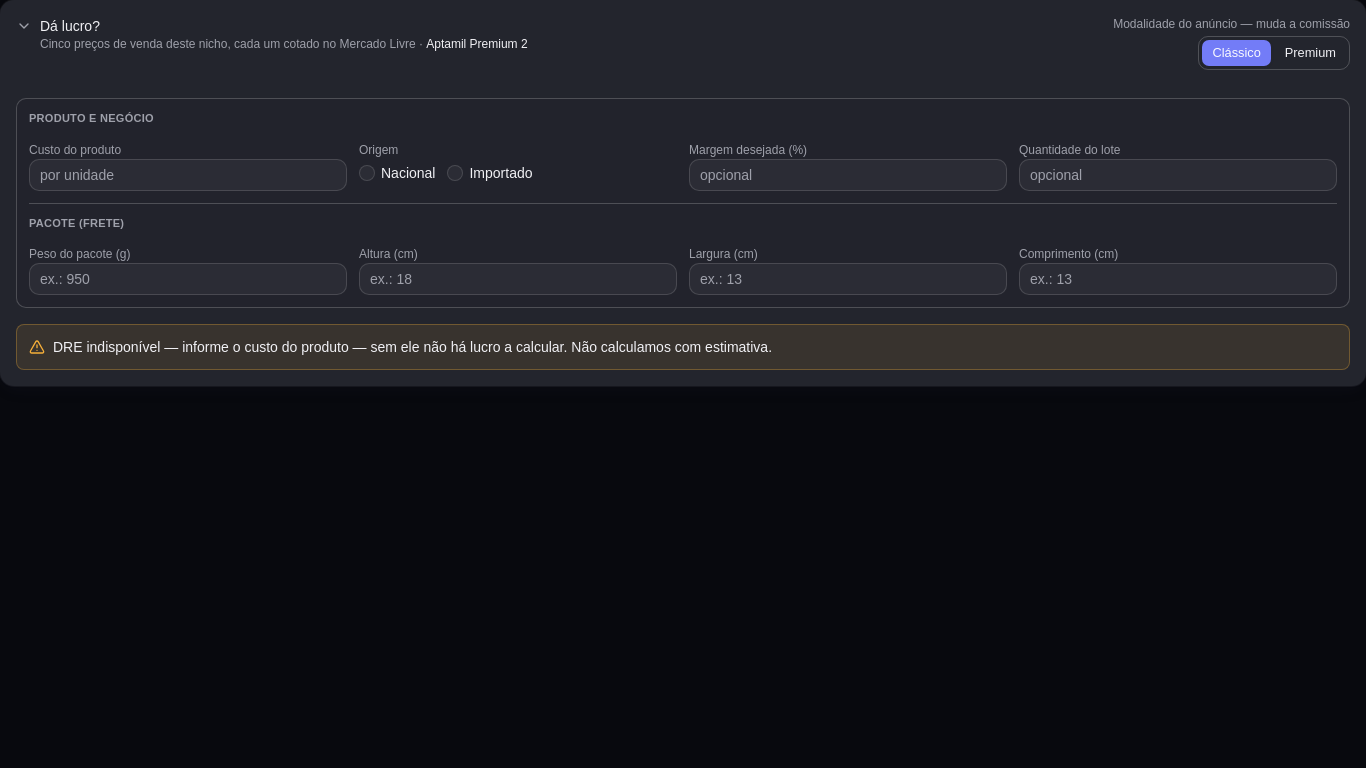
Test: SonarDre — cenários (ADR-0149) › mostra os cinco preços, do mais barato ao mais caro
In the field labelled "Custo do produto": [188, 175] box [29,159,347,191], type "42"
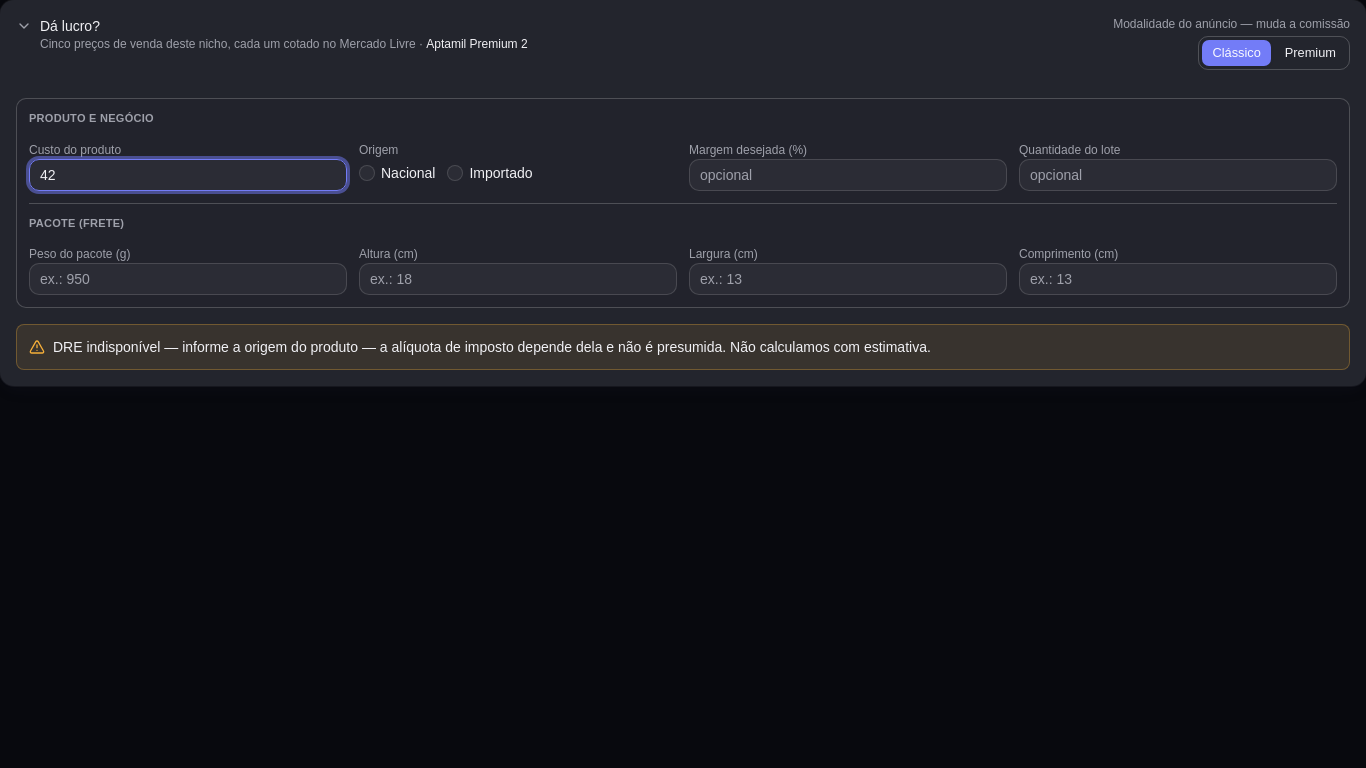
Click the radio button named "nacional" next to "Nacional": [367, 173] box [359,165,375,181]
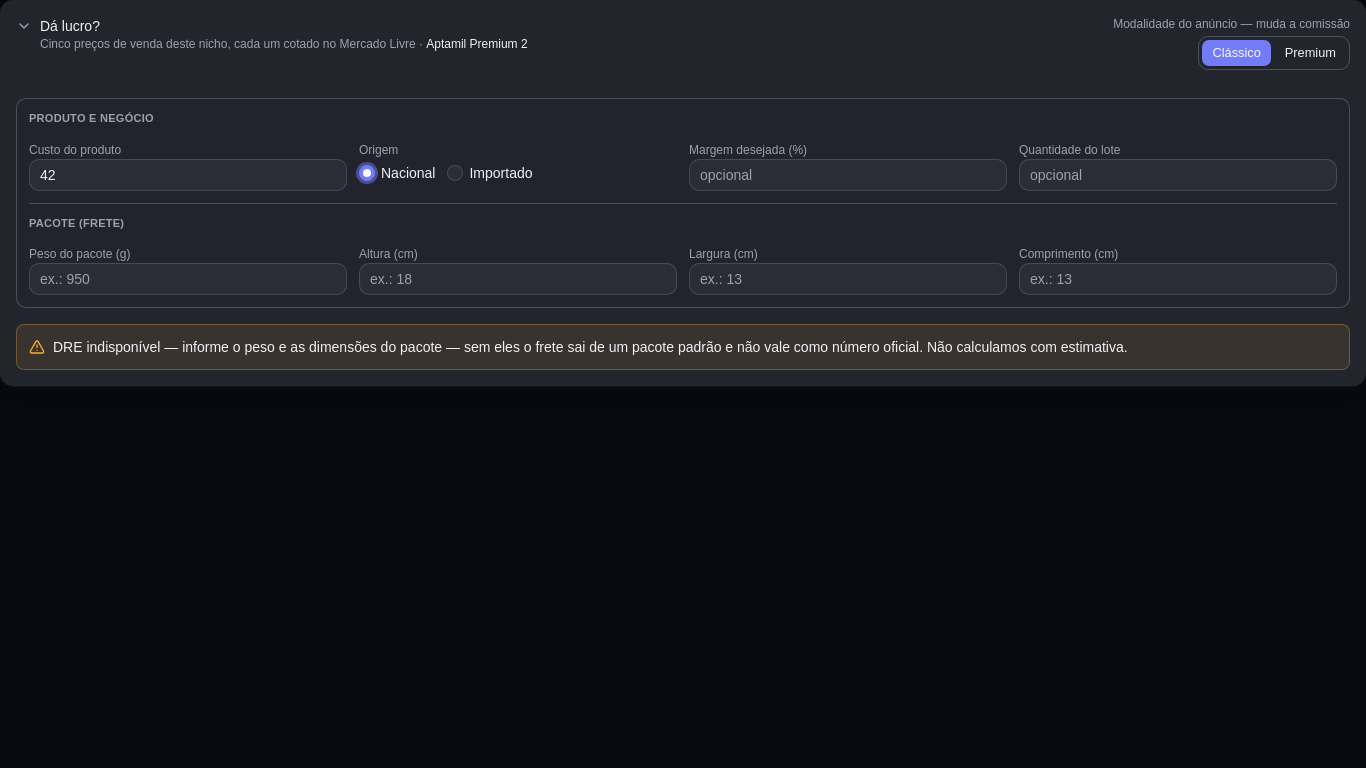
In the field labelled "Peso do pacote (g)": [188, 279] box [29,263,347,295], type "950"
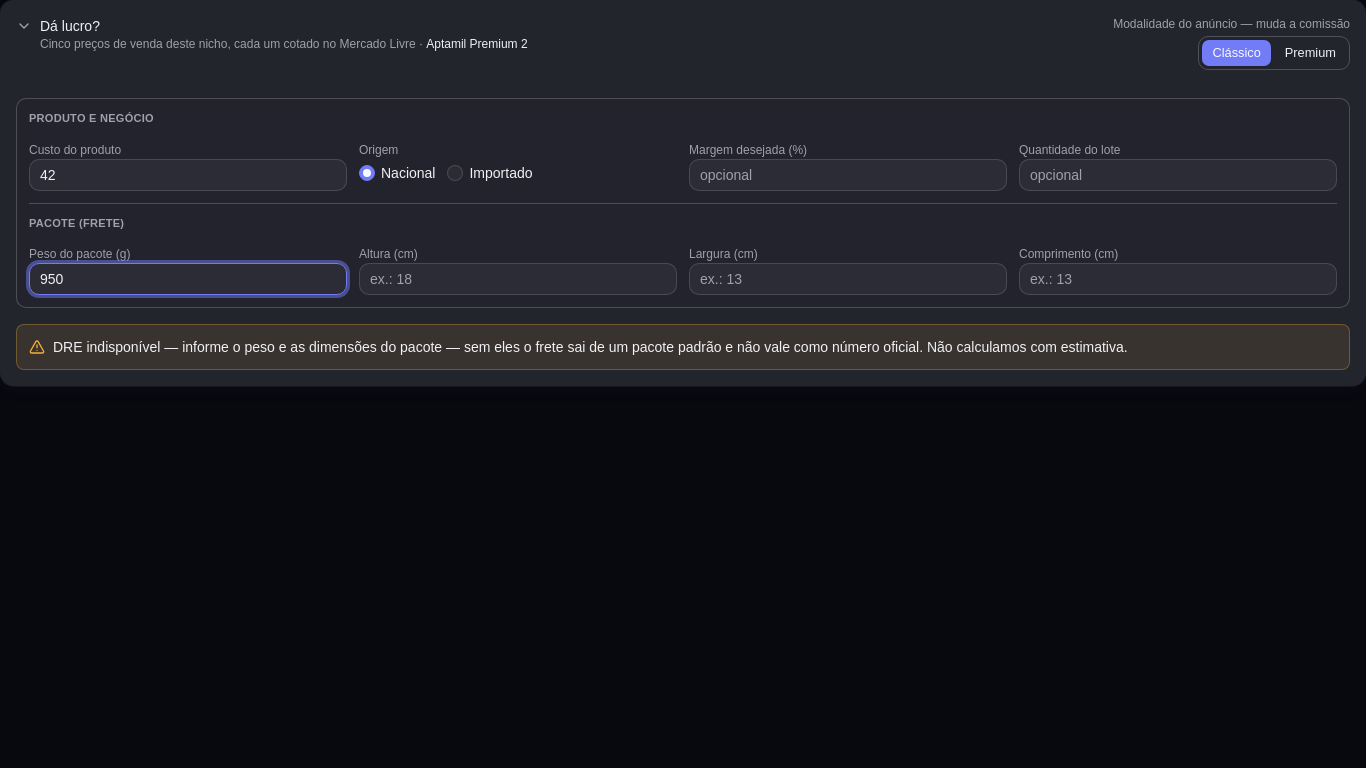
In the field labelled "Altura (cm)": [518, 279] box [359,263,677,295], type "18"
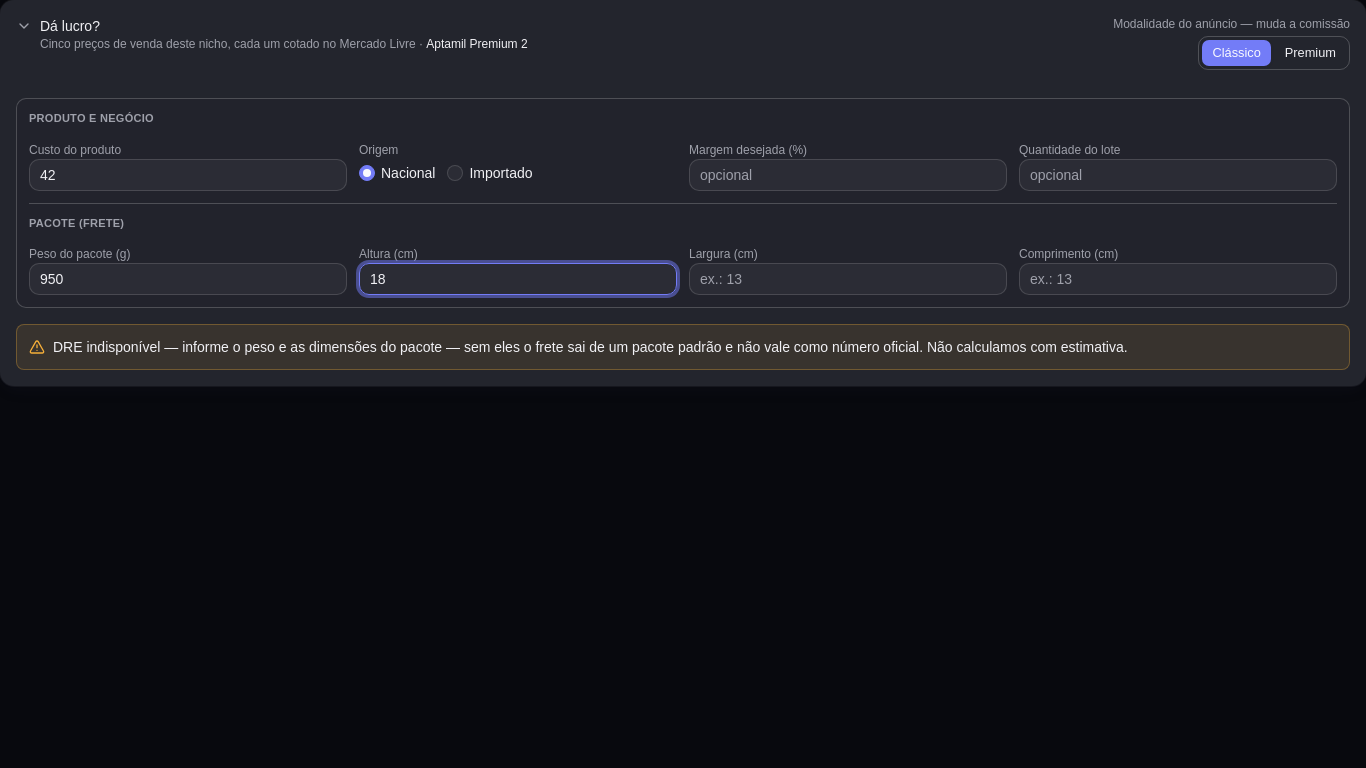
In the field labelled "Largura (cm)": [848, 279] box [689,263,1007,295], type "13"
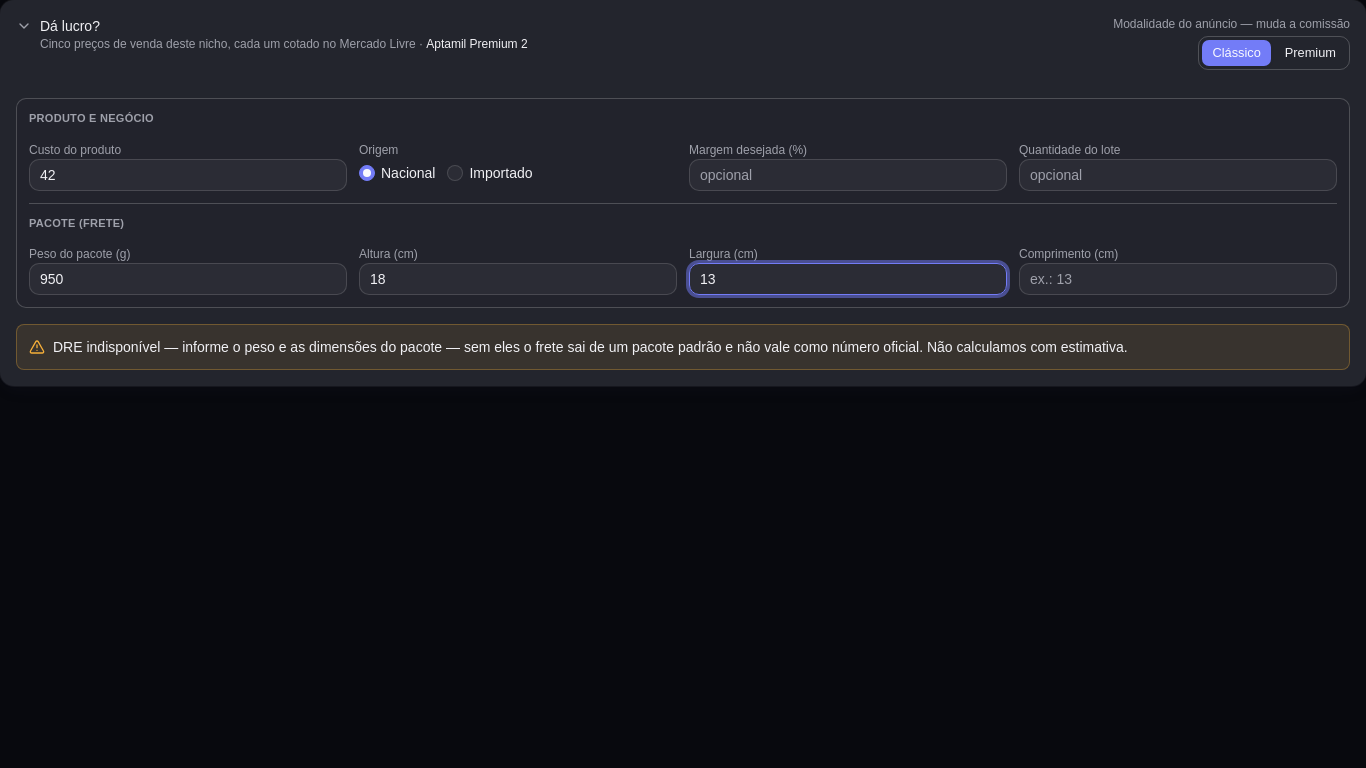
In the field labelled "Comprimento (cm)": [1178, 279] box [1019,263,1337,295], type "13"
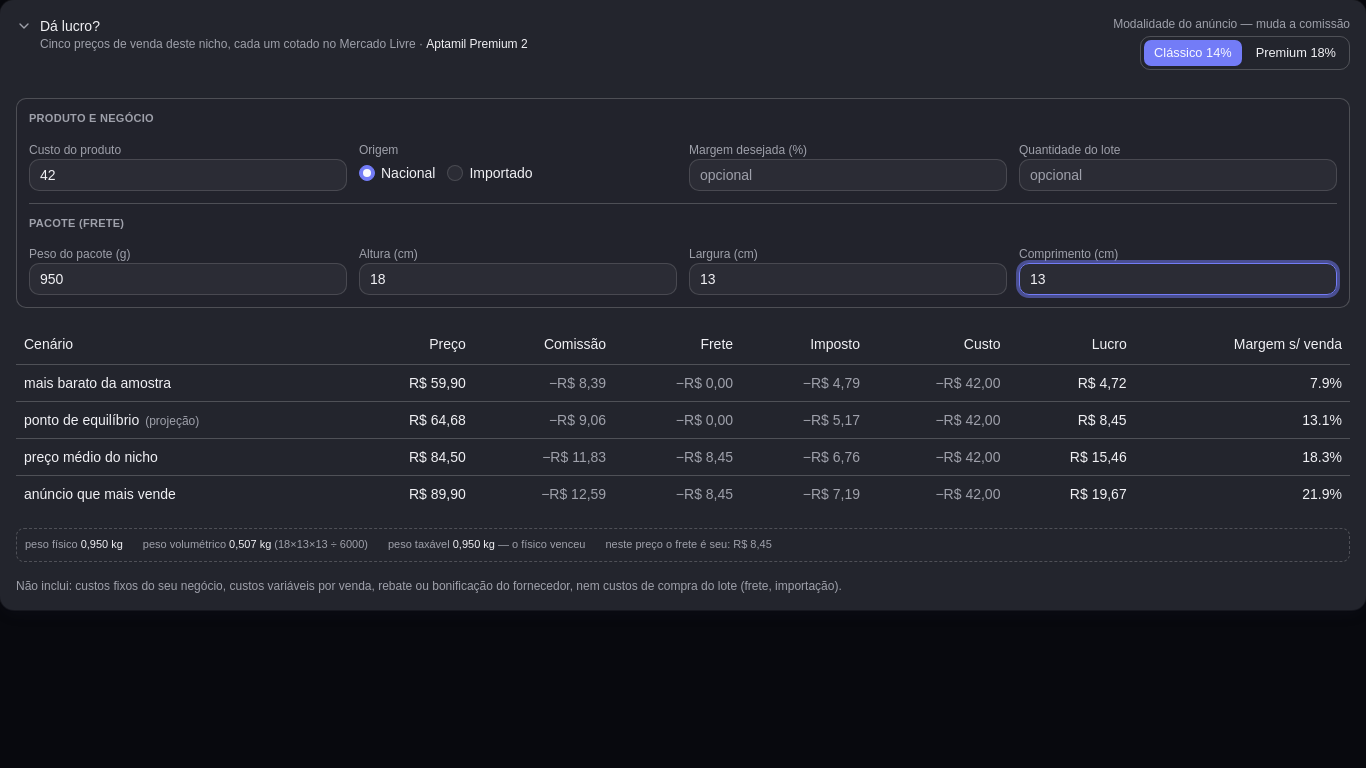
Check: the text "mais barato da amostra" is shown, box [16,364,348,401]
Check: the text "preço médio do nicho" is shown, box [16,438,348,475]
Check: the text "anúncio que mais vende" is shown, box [16,475,348,512]
